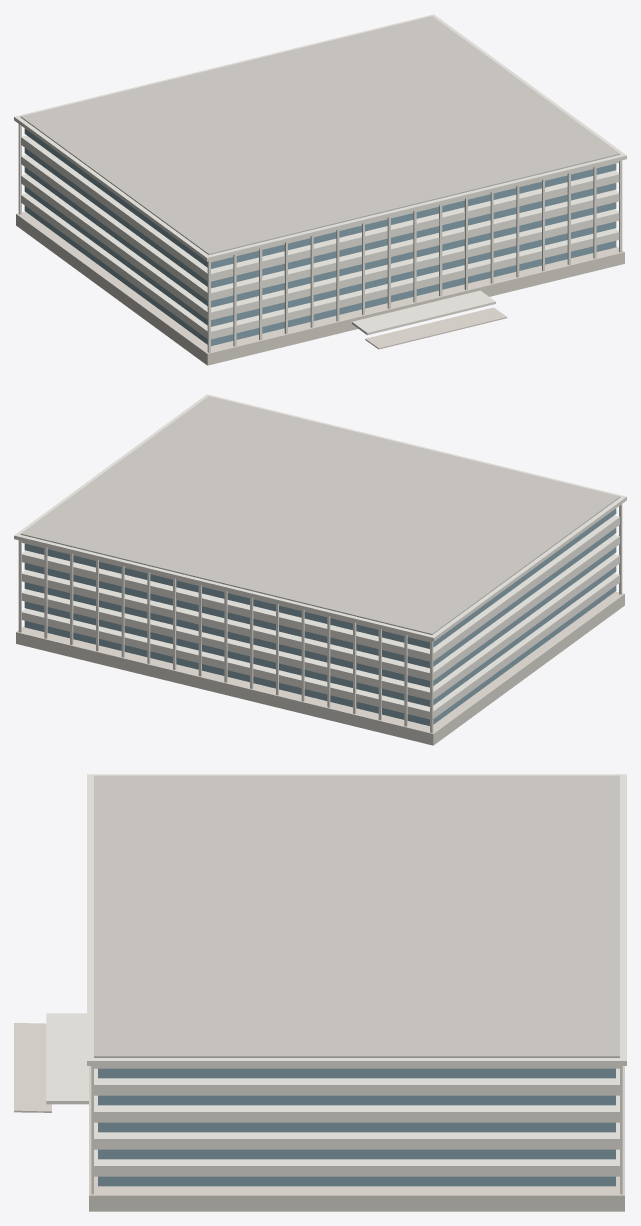
File: 逸夫图书馆.glb
3 views of the same model, one above another, from view 1: azimuth 30°, elevation 25°; view 2: azimuth 150°, elevation 25°; view 3: azimuth 270°, elevation 25° (orthographic). The views are drawn at different scales.
Visible parts, largest first — view 1: 逸夫图书馆_roofDeck, 逸夫图书馆_trim, 逸夫图书馆_glass, 逸夫图书馆_stone; view 2: 逸夫图书馆_roofDeck, 逸夫图书馆_trim, 逸夫图书馆_glass, 逸夫图书馆_stone; view 3: 逸夫图书馆_roofDeck, 逸夫图书馆_trim, 逸夫图书馆_glass, 逸夫图书馆_stone.
Part boxes in pixels (x1,y1,x2,y2): 逸夫图书馆_roofDeck: [20, 16, 620, 254]; 逸夫图书馆_trim: [14, 14, 626, 352]; 逸夫图书馆_glass: [24, 128, 616, 345]; 逸夫图书馆_stone: [16, 211, 624, 365]; 逸夫图书馆_roofDeck: [20, 396, 620, 634]; 逸夫图书馆_trim: [14, 394, 626, 732]; 逸夫图书馆_glass: [24, 508, 616, 725]; 逸夫图书馆_stone: [16, 591, 624, 745]; 逸夫图书馆_roofDeck: [94, 775, 619, 1057]; 逸夫图书馆_trim: [46, 774, 626, 1194]; 逸夫图书馆_glass: [98, 1068, 615, 1186]; 逸夫图书馆_stone: [14, 1023, 624, 1211].
Size of the model in its own units: 98 by 24.45 by 88.55.
